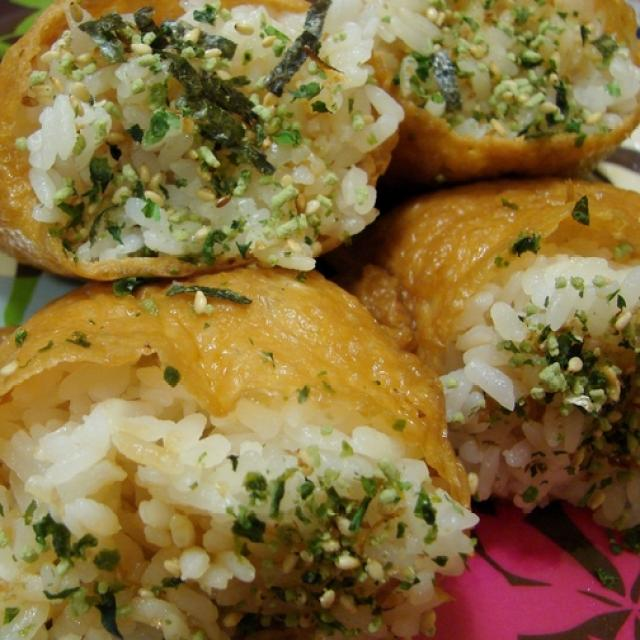寿司卷物: (4, 8, 634, 636)
